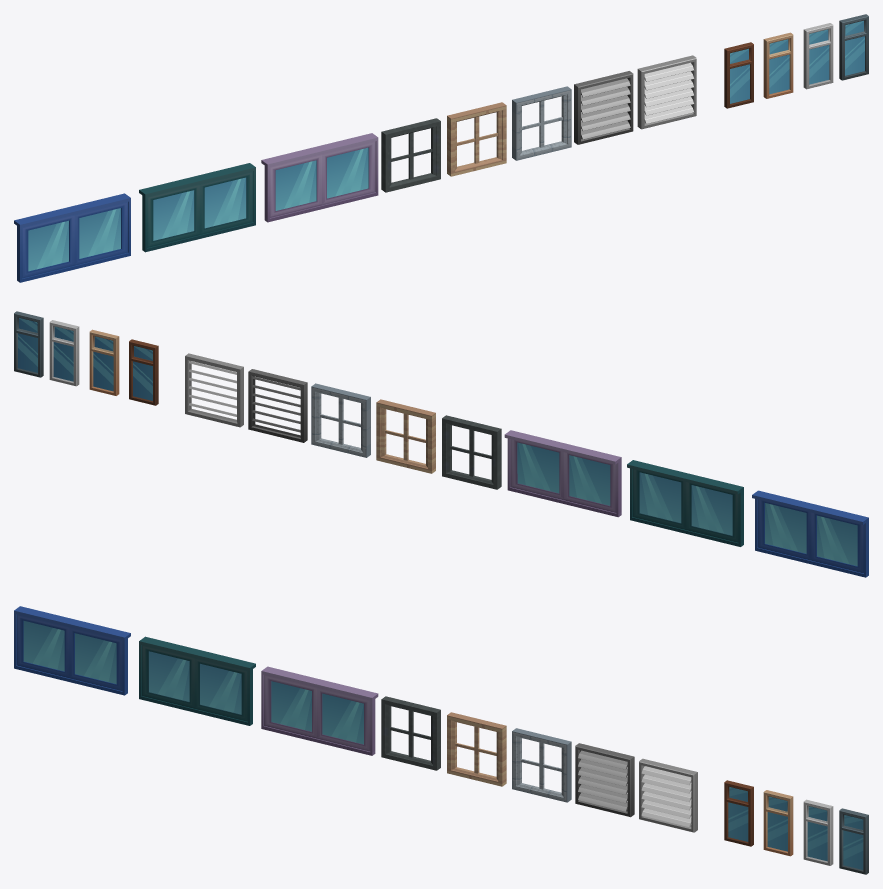
File: Window Pack.fbx
3 renders of one model, top to bottom at view 1: azimuth 30°, elevation 25°; view 2: azimuth 150°, elevation 25°; view 3: azimuth 330°, elevation 25°, orthographic.
Parts seen in each view (by area): view 1: Window_03, Window_01, Window_02, Window_08, Window_07, Window_05, Window_06, Window_04, Window_10, Window_11, Window_09, Window_12; view 2: Window_03, Window_01, Window_02, Window_07, Window_08, Window_04, Window_05, Window_06, Window_11, Window_10, Window_12, Window_09; view 3: Window_03, Window_01, Window_02, Window_07, Window_08, Window_06, Window_05, Window_04, Window_10, Window_11, Window_09, Window_12.
Boxes of the visible parts, x1,y1,x2,y2 form: Window_03: [261, 133, 378, 222]; Window_01: [14, 193, 130, 282]; Window_02: [139, 163, 255, 252]; Window_08: [637, 55, 696, 129]; Window_07: [574, 71, 633, 144]; Window_05: [447, 102, 506, 176]; Window_06: [512, 86, 571, 160]; Window_04: [381, 118, 440, 192]; Window_10: [763, 32, 793, 98]; Window_11: [803, 23, 833, 89]; Window_09: [724, 42, 753, 108]; Window_12: [839, 14, 868, 80]; Window_03: [504, 430, 621, 517]; Window_01: [752, 490, 868, 577]; Window_02: [627, 460, 743, 546]; Window_07: [248, 369, 307, 442]; Window_08: [185, 353, 243, 427]; Window_04: [442, 415, 501, 489]; Window_05: [376, 399, 435, 473]; Window_06: [311, 383, 370, 457]; Window_11: [49, 320, 79, 386]; Window_10: [89, 329, 119, 395]; Window_12: [14, 311, 43, 377]; Window_09: [129, 339, 158, 405]; Window_03: [261, 666, 378, 755]; Window_01: [14, 606, 130, 695]; Window_02: [139, 636, 255, 725]; Window_07: [575, 743, 634, 817]; Window_08: [639, 758, 697, 832]; Window_06: [512, 728, 571, 802]; Window_05: [447, 712, 506, 786]; Window_04: [381, 696, 440, 770]; Window_10: [763, 790, 793, 856]; Window_11: [803, 799, 833, 865]; Window_09: [724, 780, 753, 846]; Window_12: [839, 808, 868, 874].
Bounding box in the file's own units: 44.77 × 2.92 × 0.5588.
